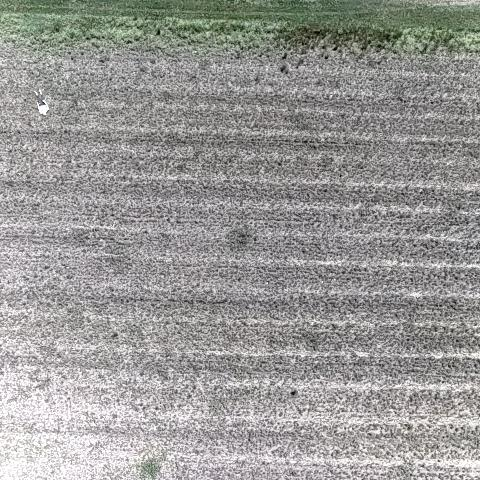person: (32, 88, 52, 117)
